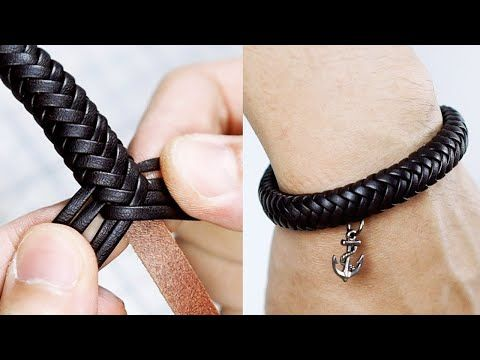cuero: (1, 46, 469, 271)
